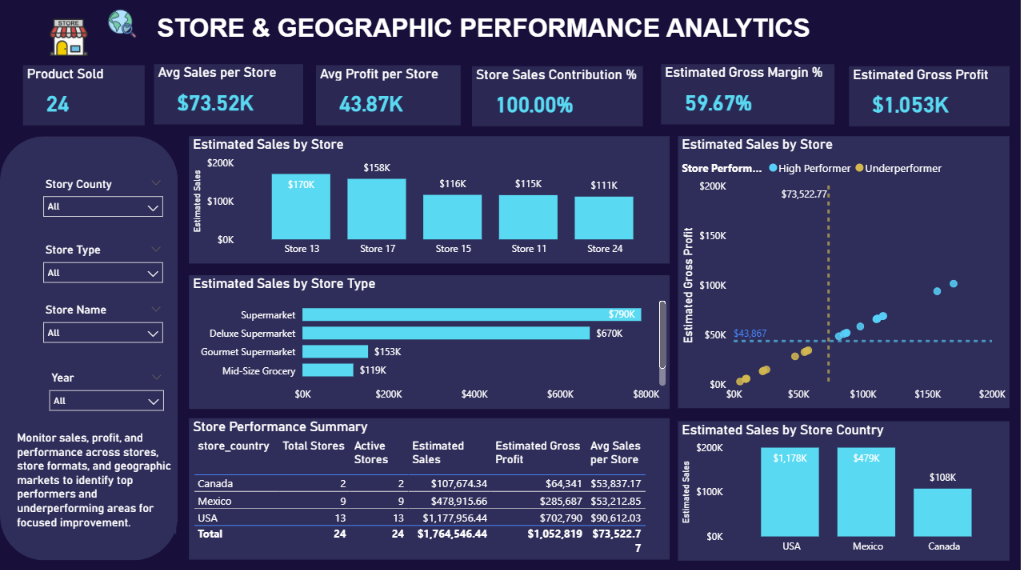

Layout of this report page (visuals, bound fields, positions):
{"tool":"powerbi","page":{"name":"Store & Geographic Analytics","canvas":[1280,720],"ordinal":3},"visuals":[{"type":"image","box":[125,11.9,55.4,36],"z":0,"group":"g4"},{"type":"cardVisual","title":"Estimated Gross Margin %","fields":{"Data":["Measure_Table.Estimated Gross Margin %"]},"box":[825.8,81,216.9,75.4],"z":0,"group":"g1"},{"type":"cardVisual","title":"Product Sold","fields":{"Data":["Measure_Table.Total Stores"]},"box":[28.8,82.4,152.2,75.4],"z":0,"group":"g2"},{"type":"shape","box":[0,171,222.4,530.2],"z":0},{"type":"textbox","box":[16.2,533.8,204.3,134.5],"z":0,"group":"g3"},{"type":"textbox","title":"Re","box":[190.6,13.6,983.8,68.1],"z":1000},{"type":"image","box":[28.9,23.1,114.5,48.3],"z":1000,"group":"g4"},{"type":"cardVisual","title":"Store Sales Contribution %","fields":{"Data":["Measure_Table.Store Sales Contribution %"]},"box":[590.3,83.8,214,75.4],"z":1000,"group":"g1"},{"type":"cardVisual","title":"Avg Sales per Store","fields":{"Data":["Measure_Table.Avg Sales per Store"]},"box":[192.5,81,186.7,75.4],"z":2000,"group":"g1"},{"type":"slicer","fields":{"Values":["dim_date.year"]},"box":[51.1,459.6,163.4,54.5],"z":2000},{"type":"cardVisual","title":"Avg Profit per Store","fields":{"Data":["Measure_Table.Avg Profit per Store"]},"box":[395,82.4,181,75.4],"z":3000,"group":"g1"},{"type":"slicer","fields":{"Values":["dim_store.store_country"]},"box":[44.3,217.9,170.2,61.3],"z":3000},{"type":"cardVisual","title":"Estimated Gross Profit","fields":{"Data":["Measure_Table.Estimated Gross Profit"]},"box":[1061.4,83.8,201.1,75.4],"z":4000,"group":"g1"},{"type":"slicer","fields":{"Values":["dim_store.store_type"]},"box":[44.3,299.6,170.2,61.3],"z":4000},{"type":"group","id":"g1","title":"Group 1","box":[28.8,81,1233.6,78.2],"z":5000},{"type":"group","id":"g2","title":"Group 6","box":[28.8,82.4,152.2,75.4],"z":5000,"group":"g1"},{"type":"slicer","fields":{"Values":["dim_store.store_name"]},"box":[44.3,374.5,170.2,61.3],"z":6000},{"type":"group","id":"g3","title":"Group 8","box":[16.2,533.8,204.3,134.5],"z":7000},{"type":"group","id":"g4","title":"Group 2","box":[28.9,11.9,151.5,57.9],"z":8000},{"type":"columnChart","title":"Estimated Sales by Store Country","fields":{"Category":["dim_store.store_country"],"Y":["Measure_Table.Estimated Sales"]},"box":[848,526.9,414.4,174.3],"z":9000},{"type":"barChart","title":"Estimated Sales by Store Type","fields":{"Y":["Measure_Table.Estimated Sales"],"Category":["dim_store.store_type"]},"box":[236,344.4,601,167.4],"z":10000},{"type":"columnChart","title":"Estimated Sales by Store","fields":{"Category":["dim_store.store_name"],"Y":["Measure_Table.Estimated Sales"]},"box":[236,171.5,601,159.2],"z":11000},{"type":"scatterChart","title":"Estimated Sales by Store","fields":{"X":["Measure_Table.Estimated Sales"],"Y":["Measure_Table.Estimated Gross Profit"],"Category":["dim_store.store_id"],"Series":["dim_store.Store Performance Category"]},"box":[848,171.5,414.4,340.3],"z":12000},{"type":"tableEx","title":"Store Performance Summary","fields":{"Values":["dim_store.store_country","Measure_Table.Total Stores","Measure_Table.Active Stores","Measure_Table.Estimated Sales","Measure_Table.Estimated Gross Profit","Measure_Table.Avg Sales per Store"]},"box":[236,524.2,601,177],"z":13000}]}

Visuals, with their boxes in screenshot pixels (x1, y1, x2, y2), scaled from the page's 1280x720 canvas onto the 1021x570 screenshot:
image: locate(100, 9, 144, 38)
"Estimated Gross Margin %" cardVisual: locate(659, 64, 832, 124)
"Product Sold" cardVisual: locate(23, 65, 144, 125)
shape: locate(0, 135, 177, 555)
textbox: locate(13, 423, 176, 529)
"Re" textbox: locate(152, 11, 937, 65)
image: locate(23, 18, 114, 57)
"Store Sales Contribution %" cardVisual: locate(471, 66, 642, 126)
"Avg Sales per Store" cardVisual: locate(154, 64, 302, 124)
slicer - dim_date.year: locate(41, 364, 171, 407)
"Avg Profit per Store" cardVisual: locate(315, 65, 459, 125)
slicer - dim_store.store_country: locate(35, 173, 171, 221)
"Estimated Gross Profit" cardVisual: locate(847, 66, 1007, 126)
slicer - dim_store.store_type: locate(35, 237, 171, 286)
"Group 1" group: locate(23, 64, 1007, 126)
"Group 6" group: locate(23, 65, 144, 125)
slicer - dim_store.store_name: locate(35, 296, 171, 345)
"Group 8" group: locate(13, 423, 176, 529)
"Group 2" group: locate(23, 9, 144, 55)
"Estimated Sales by Store Country" columnChart: locate(676, 417, 1007, 555)
"Estimated Sales by Store Type" barChart: locate(188, 273, 668, 405)
"Estimated Sales by Store" columnChart: locate(188, 136, 668, 262)
"Estimated Sales by Store" scatterChart: locate(676, 136, 1007, 405)
"Store Performance Summary" tableEx: locate(188, 415, 668, 555)
